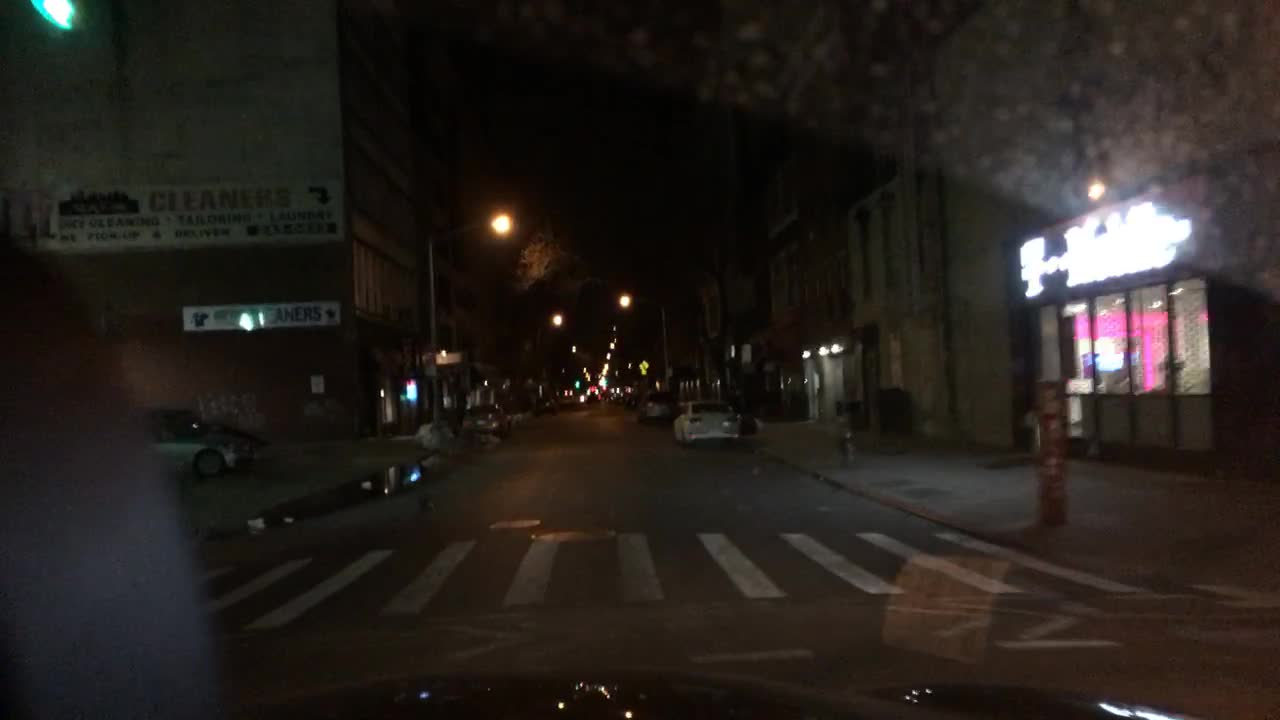car: (138, 404, 264, 480), (670, 395, 746, 449), (460, 401, 516, 440), (638, 389, 678, 425), (536, 396, 561, 414), (620, 390, 637, 411), (607, 390, 620, 401)
traffic light: (575, 371, 581, 388)
traffic sign: (434, 353, 462, 364), (641, 360, 648, 375)
